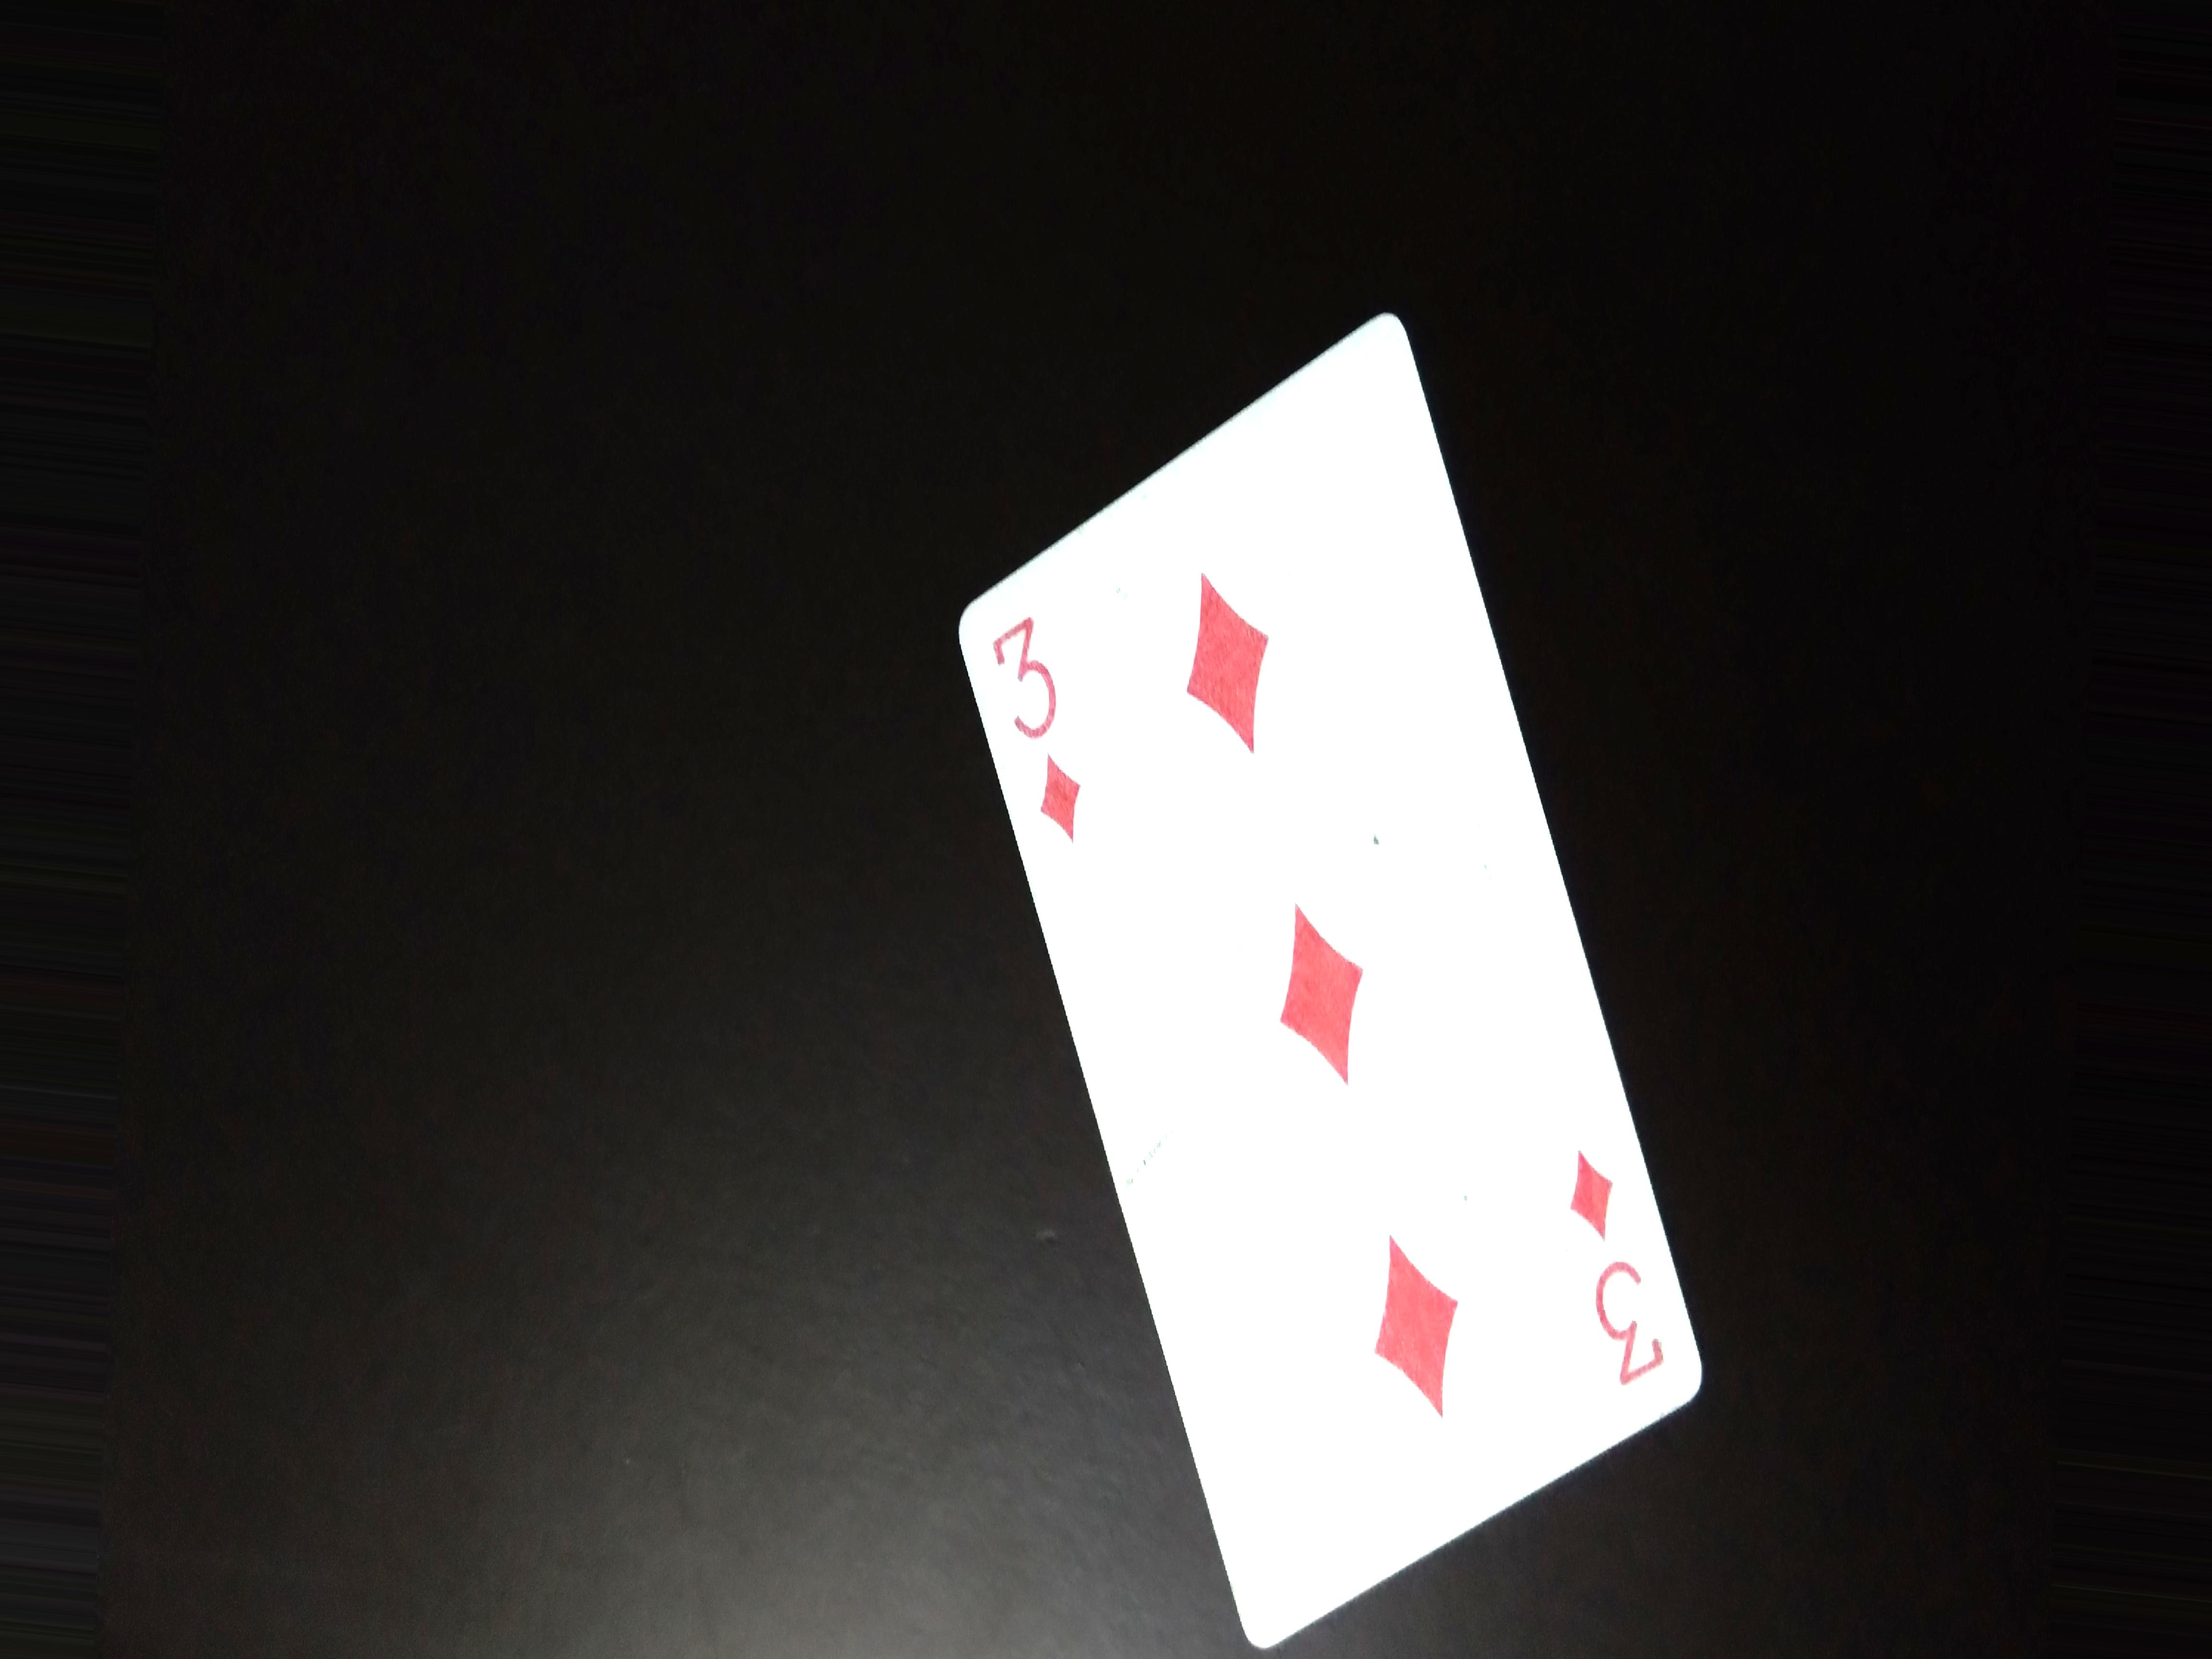3D: (975, 599, 1116, 866)
